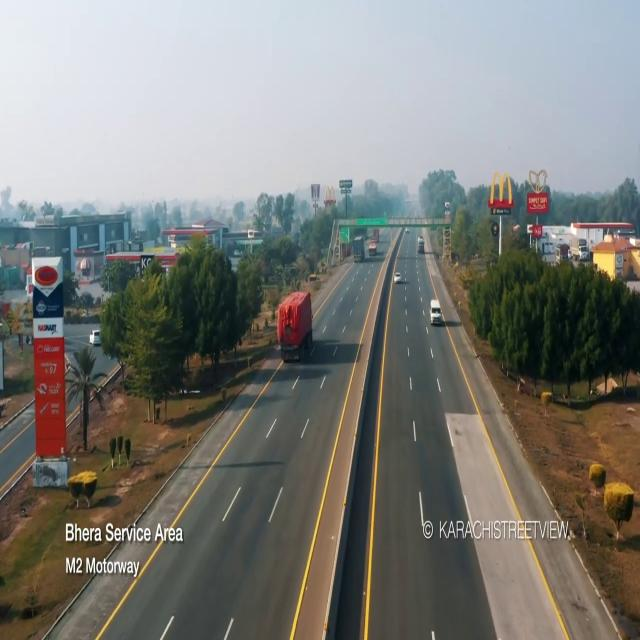car: (432, 307, 444, 326), (394, 268, 402, 290)
truck: (273, 279, 318, 384), (353, 237, 365, 264), (417, 235, 426, 256)
